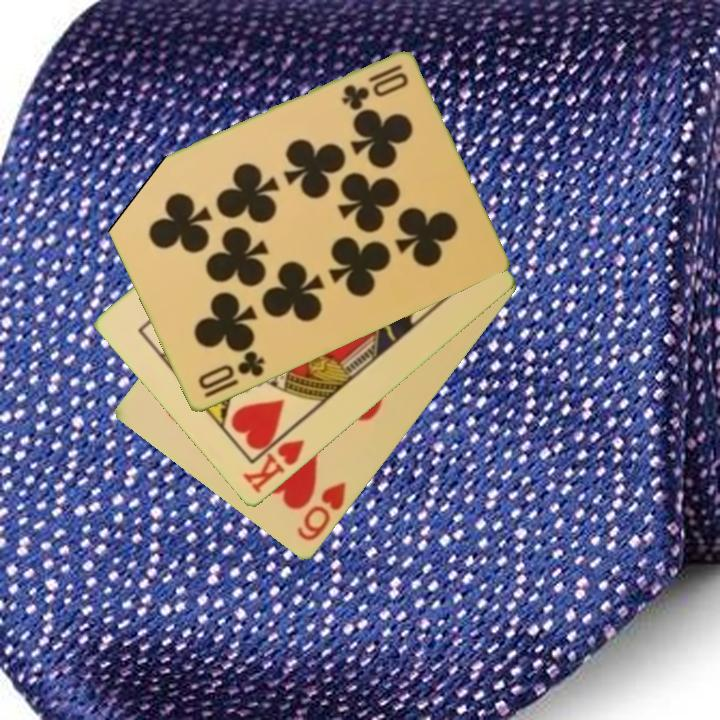10c: (194, 347, 268, 401), (337, 61, 405, 112)
6h: (293, 478, 349, 545)
Kh: (239, 422, 308, 497)
